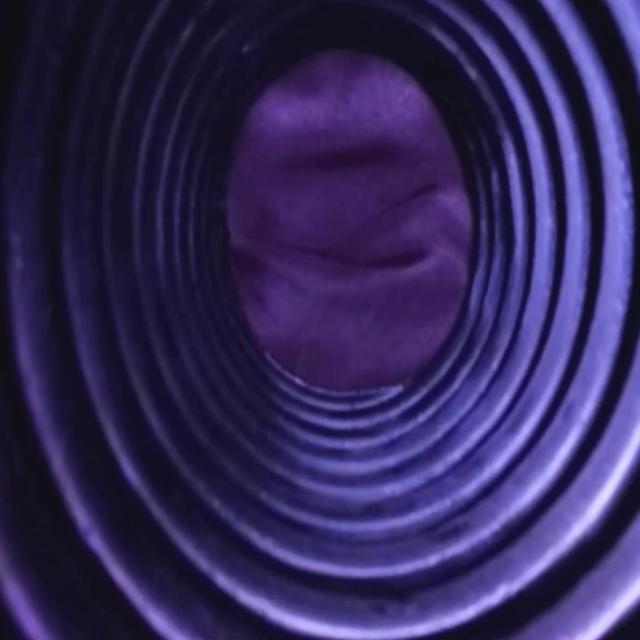block: (229, 59, 479, 388)
